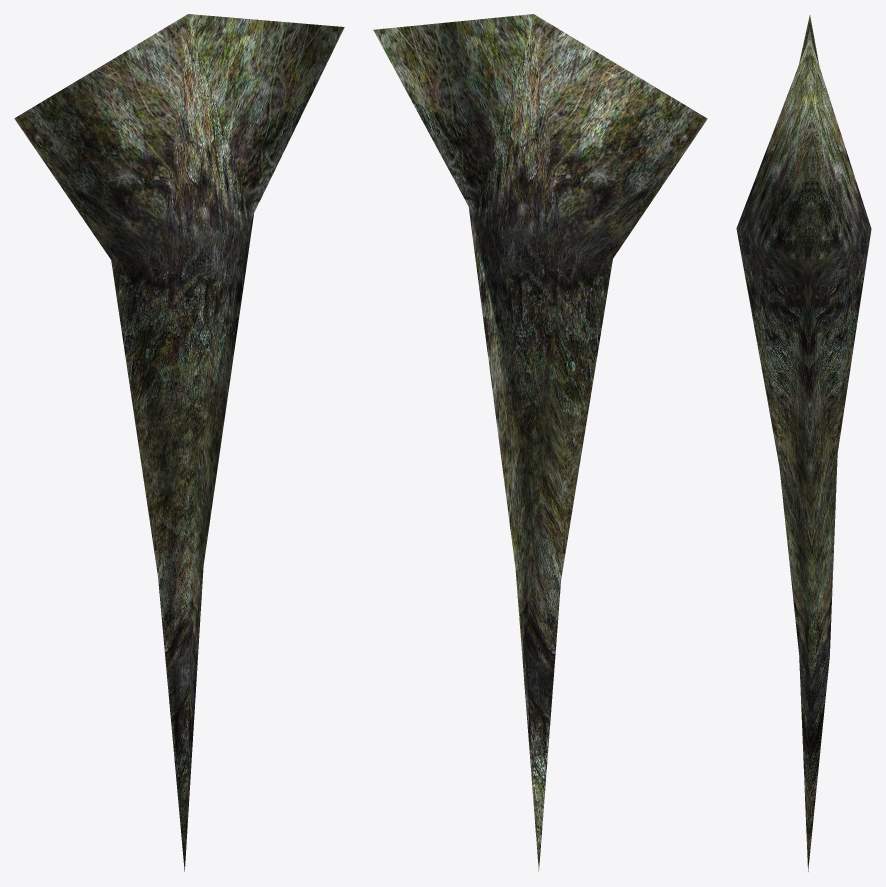
File: thm_all_cave_stalagtite_damprock_b1_l2.fbx
3 views of the same model, side by side, from view 1: azimuth 30°, elevation 25°; view 2: azimuth 150°, elevation 25°; view 3: azimuth 270°, elevation 25° (orthographic). The views are drawn at different scales.
Parts seen in each view (by area): view 1: mesh_node; view 2: mesh_node; view 3: mesh_node.
Boxes of the visible parts, x1,y1,x2,y2 form: mesh_node: [14, 14, 344, 871]; mesh_node: [373, 14, 707, 871]; mesh_node: [736, 15, 871, 871].
Size of the model in its own units: 1.4 by 3.45 by 0.5031.
